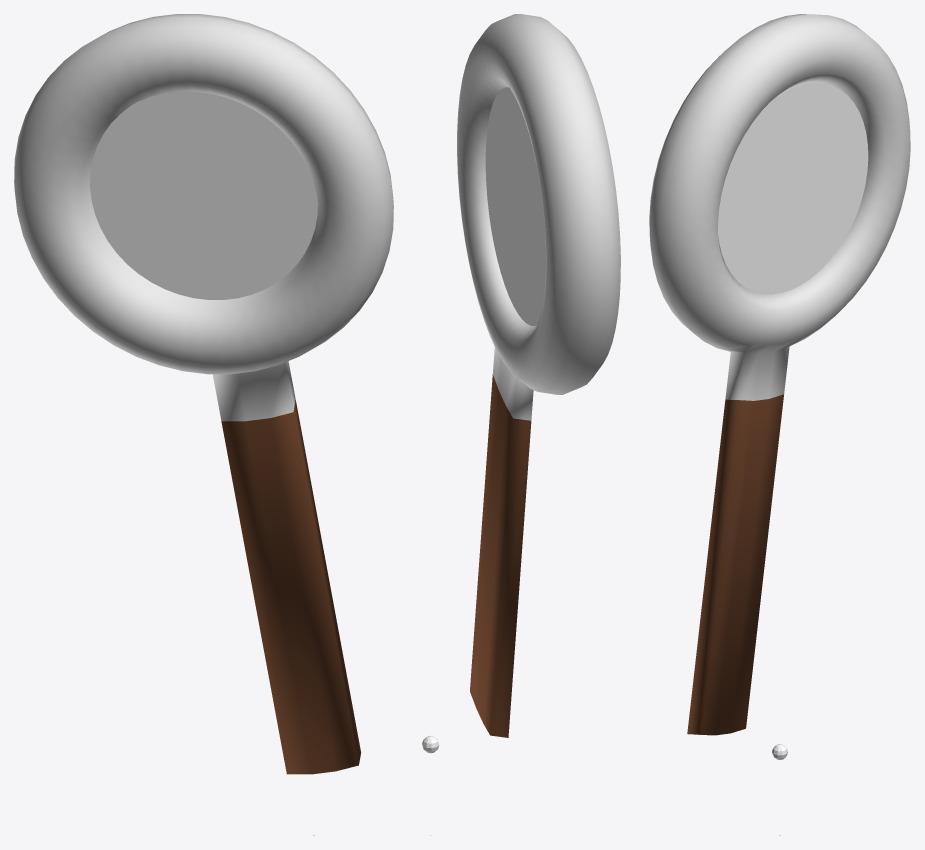
The model's file is magnifyingGlass.gltf.
3 renders of one model, left to right at view 1: azimuth 30°, elevation 25°; view 2: azimuth 150°, elevation 25°; view 3: azimuth 270°, elevation 25°, orthographic. The views are drawn at different scales.
Visible parts, largest first — view 1: Torus; view 2: Torus; view 3: Torus.
Boxes of the visible parts, x1,y1,x2,y2 form: Torus: (14, 14, 393, 774); Torus: (457, 14, 620, 737); Torus: (649, 14, 910, 735).
Size of the model in its own units: 13.78 by 42.34 by 13.14.
